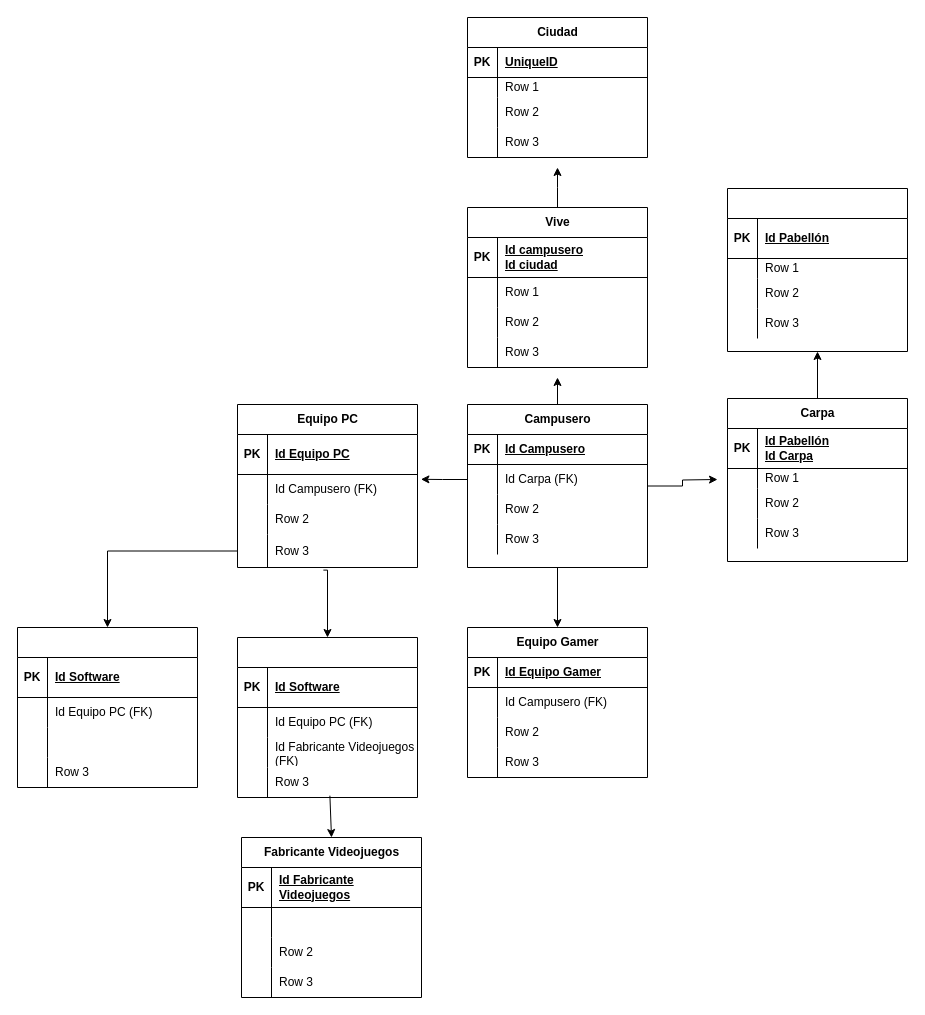
Image size: 925x1015. Some labels were removed from this diagram. The box of each missing label's shape, as (x1, y1, x2, y2) in pixels:
Pabellon: (726, 188, 908, 352)
Software Educativo: (16, 626, 198, 788)
Software Videojuegos: (236, 636, 418, 798)
